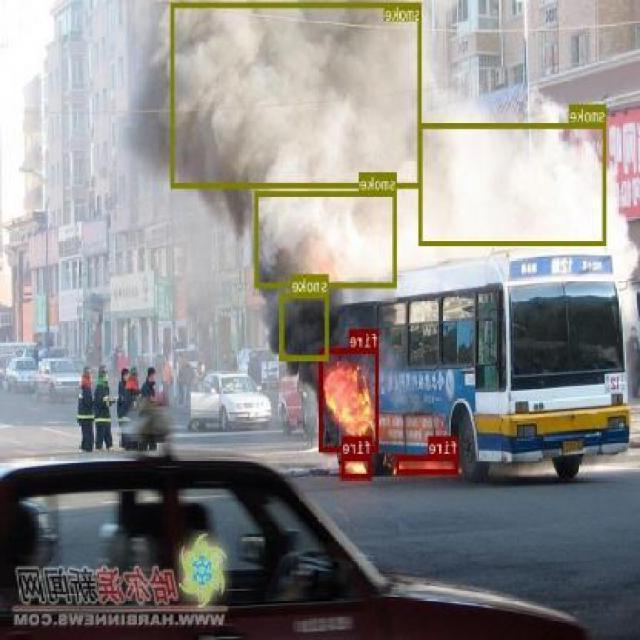Fire: (320, 348, 380, 450), (396, 455, 459, 473), (342, 454, 372, 478)
Smoke: (172, 1, 422, 188), (419, 123, 607, 244), (256, 191, 398, 286), (282, 292, 330, 360)
